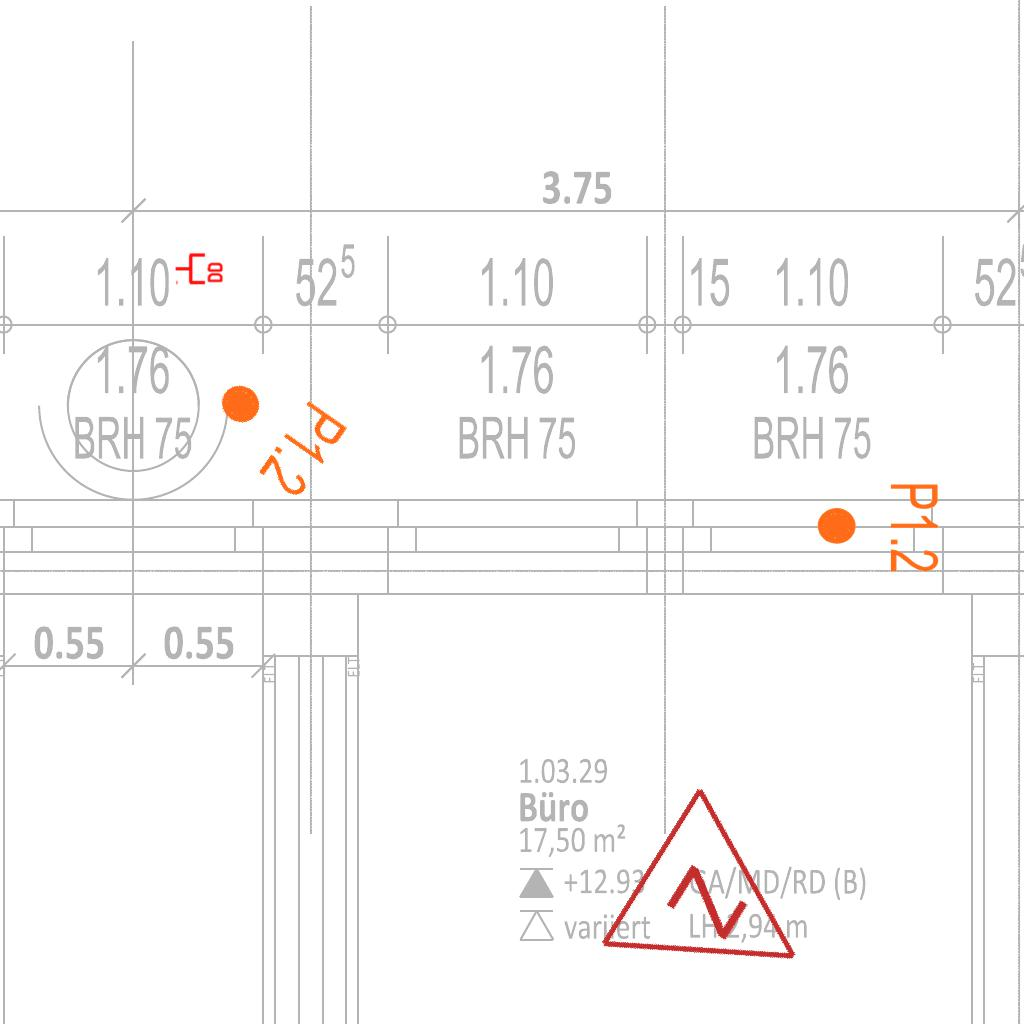Datenanschluss_zweifach: (174, 251, 225, 285)
Downlight_LED_Einbauleuchten_Flur: (194, 354, 353, 504), (814, 481, 942, 574)
Zimmersignalleuchte: (586, 772, 860, 1024)
